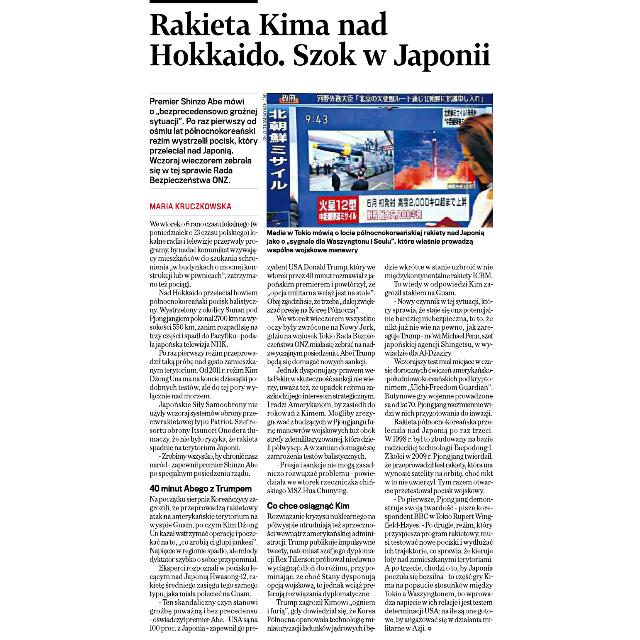author: (148, 199, 235, 213)
body: (144, 218, 260, 636), (263, 262, 379, 636), (381, 262, 495, 636)
caption: (265, 229, 489, 255)
image: (264, 92, 496, 228)
lead: (146, 96, 260, 186)
title: (148, 7, 494, 75)
